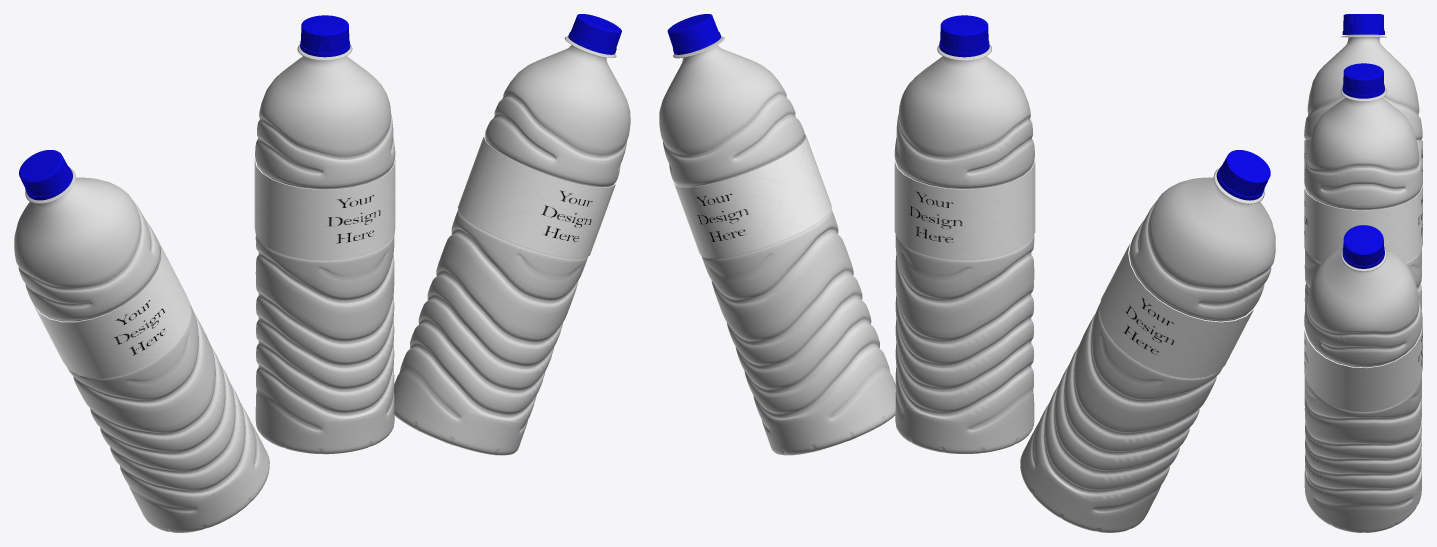
Rendered from Plastic Bottle A-5.glb.
3 renders of one model, left to right at view 1: azimuth 30°, elevation 25°; view 2: azimuth 150°, elevation 25°; view 3: azimuth 270°, elevation 25°, orthographic. The views are drawn at different scales.
Parts seen in each view (by area): view 1: Circle.004, Circle.002, Circle, Poster_Poster_0.002, Poster_Poster_0.001, Poster_Poster_0, Circle.012, Circle.001, Circle.003; view 2: Circle.004, Circle.002, Circle, Poster_Poster_0.002, Poster_Poster_0.001, Poster_Poster_0, Circle.012, Circle.001, Circle.003; view 3: Circle.004, Circle.002, Poster_Poster_0.002, Poster_Poster_0.001, Circle, Circle.003, Circle.001, Circle.012, Poster_Poster_0.
Boxes of the visible parts, x1,y1,x2,y2 form: Circle.004: (394,36,630,455); Circle.002: (255,44,395,454); Circle: (14,168,269,532); Poster_Poster_0.002: (457,134,615,258); Poster_Poster_0.001: (254,157,395,259); Poster_Poster_0: (33,239,190,378); Circle.012: (19,150,72,200); Circle.001: (300,15,350,57); Circle.003: (568,14,621,54); Circle.004: (659,36,895,455); Circle.002: (894,45,1034,453); Circle: (1020,168,1275,532); Poster_Poster_0.002: (673,134,831,258); Poster_Poster_0.001: (894,159,1035,259); Poster_Poster_0: (1099,241,1255,378); Circle.012: (1216,150,1270,200); Circle.001: (939,15,989,57); Circle.003: (667,14,721,54); Circle.004: (1304,246,1422,532); Circle.002: (1304,88,1422,405); Poster_Poster_0.002: (1304,324,1422,411); Poster_Poster_0.001: (1304,184,1422,262); Circle: (1304,34,1422,383); Circle.003: (1342,225,1384,268); Circle.001: (1342,63,1384,98); Circle.012: (1342,14,1384,34); Poster_Poster_0: (1304,140,1422,184).
Bounding box in the file's own units: 4.96 × 3.62 × 1.
Materials: 4 (1 with a texture image).
